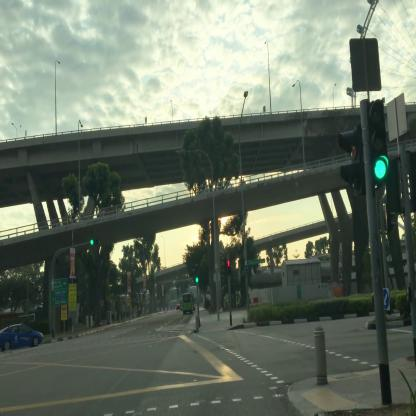green_traffic_light: (370, 104, 388, 179), (195, 267, 198, 282), (90, 240, 100, 244)
